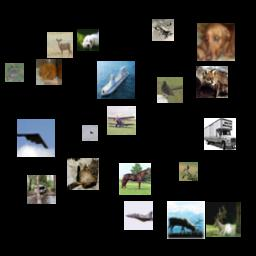airplane: (17, 119, 55, 157), (124, 201, 153, 230), (107, 106, 136, 135), (152, 19, 174, 41), (82, 125, 98, 141)
bird: (157, 77, 183, 103), (179, 162, 198, 181)
cat: (67, 158, 99, 190), (196, 66, 228, 98), (36, 59, 62, 85)
deer: (167, 201, 205, 239), (206, 202, 241, 237), (47, 32, 73, 58)
dog: (197, 23, 235, 61), (77, 29, 99, 51)
frog: (5, 63, 24, 82)
ship: (97, 61, 135, 99)
truck: (204, 118, 236, 150), (27, 175, 56, 204)
